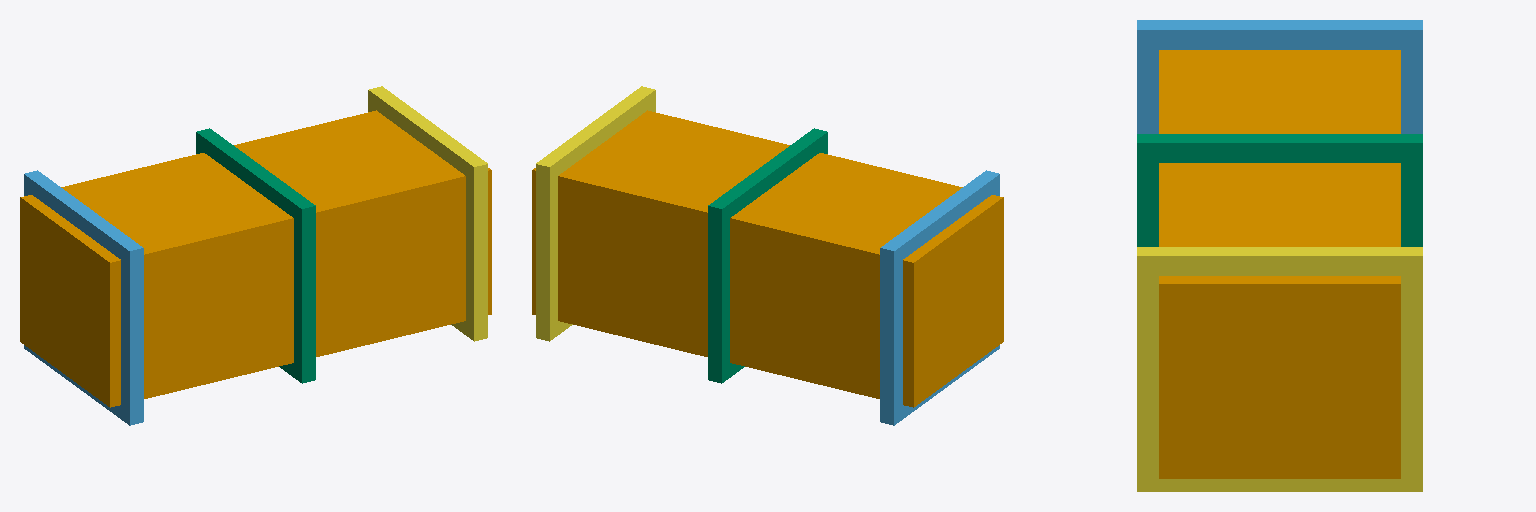
The robot description file, URDF, robot "debris000":
<?xml version="1.0" ?>
<robot name="debris000">

<link name="debris000">
<visual> <origin xyz="0 0 0" rpy="0 0 0" />
<geometry> <box size="1.35 0.55 0.49"/> </geometry>
</visual>
<collision> <origin xyz="0 0 0" rpy="0 0 0" />
<geometry> <box size="1.35 0.55 0.49"/> </geometry>
</collision>
<inertial> <origin xyz="0 0 0" rpy="0 0 0" />
<mass value="10.0" />
<inertia ixx="1.0596" ixy="0" ixz="0" iyy="1.0596" iyz="0" izz="1.0596" />
</inertial>
</link>
<gazebo reference="debris000"> <material>Gazebo/WoodFloor</material> </gazebo>

<link name="debris0000">
<visual> <origin xyz="-0.61 0 0" rpy="0 0 0" />
<geometry> <box size="0.05 0.65 0.59"/> </geometry>
</visual>
<collision> <origin xyz="-0.61 0 0" rpy="0 0 0" />
<geometry> <box size="0.05 0.65 0.59"/> </geometry>
</collision>
<inertial> <origin xyz="0 0 0" rpy="0 0 0" />
<mass value="0.1" />
<inertia ixx="0.0100" ixy="0" ixz="0" iyy="0.0100" iyz="0" izz="0.0100" />
</inertial>
</link>
<gazebo reference="debris0000"> <material>Gazebo/WoodFloor</material> </gazebo>

<joint name="debris0000joint" type="fixed">
<parent link="debris000"/>
<child link="debris0000"/>
<origin xyz="0 0 0" rpy="0 0 0" />
</joint>

<link name="debris0001">
<visual> <origin xyz="0.00 0 0" rpy="0 0 0" />
<geometry> <box size="0.05 0.65 0.59"/> </geometry>
</visual>
<collision> <origin xyz="0.00 0 0" rpy="0 0 0" />
<geometry> <box size="0.05 0.65 0.59"/> </geometry>
</collision>
<inertial> <origin xyz="0 0 0" rpy="0 0 0" />
<mass value="0.1" />
<inertia ixx="0.0100" ixy="0" ixz="0" iyy="0.0100" iyz="0" izz="0.0100" />
</inertial>
</link>
<gazebo reference="debris0001"> <material>Gazebo/WoodFloor</material> </gazebo>

<joint name="debris0001joint" type="fixed">
<parent link="debris000"/>
<child link="debris0001"/>
<origin xyz="0 0 0" rpy="0 0 0" />
</joint>

<link name="debris0002">
<visual> <origin xyz="0.61 0 0" rpy="0 0 0" />
<geometry> <box size="0.05 0.65 0.59"/> </geometry>
</visual>
<collision> <origin xyz="0.61 0 0" rpy="0 0 0" />
<geometry> <box size="0.05 0.65 0.59"/> </geometry>
</collision>
<inertial> <origin xyz="0 0 0" rpy="0 0 0" />
<mass value="0.1" />
<inertia ixx="0.0100" ixy="0" ixz="0" iyy="0.0100" iyz="0" izz="0.0100" />
</inertial>
</link>
<gazebo reference="debris0002"> <material>Gazebo/WoodFloor</material> </gazebo>

<joint name="debris0002joint" type="fixed">
<parent link="debris000"/>
<child link="debris0002"/>
<origin xyz="0 0 0" rpy="0 0 0" />
</joint>

</robot>

--- Facts derived from the render (not from the file) ---
Views: 3 orthographic renders of the robot side by side, from view 1: azimuth 30°, elevation 25°; view 2: azimuth 150°, elevation 25°; view 3: azimuth 270°, elevation 25°.
Model debris000 with 4 links and 3 joints (3 fixed), rooted at debris000, posed all joints at 0.
Links seen in each view (by area): view 1: debris000, debris0000, debris0001, debris0002; view 2: debris000, debris0000, debris0001, debris0002; view 3: debris000, debris0002, debris0000, debris0001.
Link boxes in pixels (x1,y1,x2,y2): debris000: (20,110,491,407); debris0000: (24,170,143,425); debris0001: (196,128,315,383); debris0002: (368,86,487,341); debris000: (532,110,1003,407); debris0000: (880,170,999,425); debris0001: (708,128,827,383); debris0002: (536,86,655,341); debris000: (1159,50,1400,478); debris0002: (1137,247,1422,491); debris0000: (1137,20,1422,133); debris0001: (1137,134,1422,246).
Bounding box of the posed robot: 1.35 × 0.65 × 0.59 m (x, y, z).
Geometry: primitives only (box / cylinder / sphere), no mesh files.
